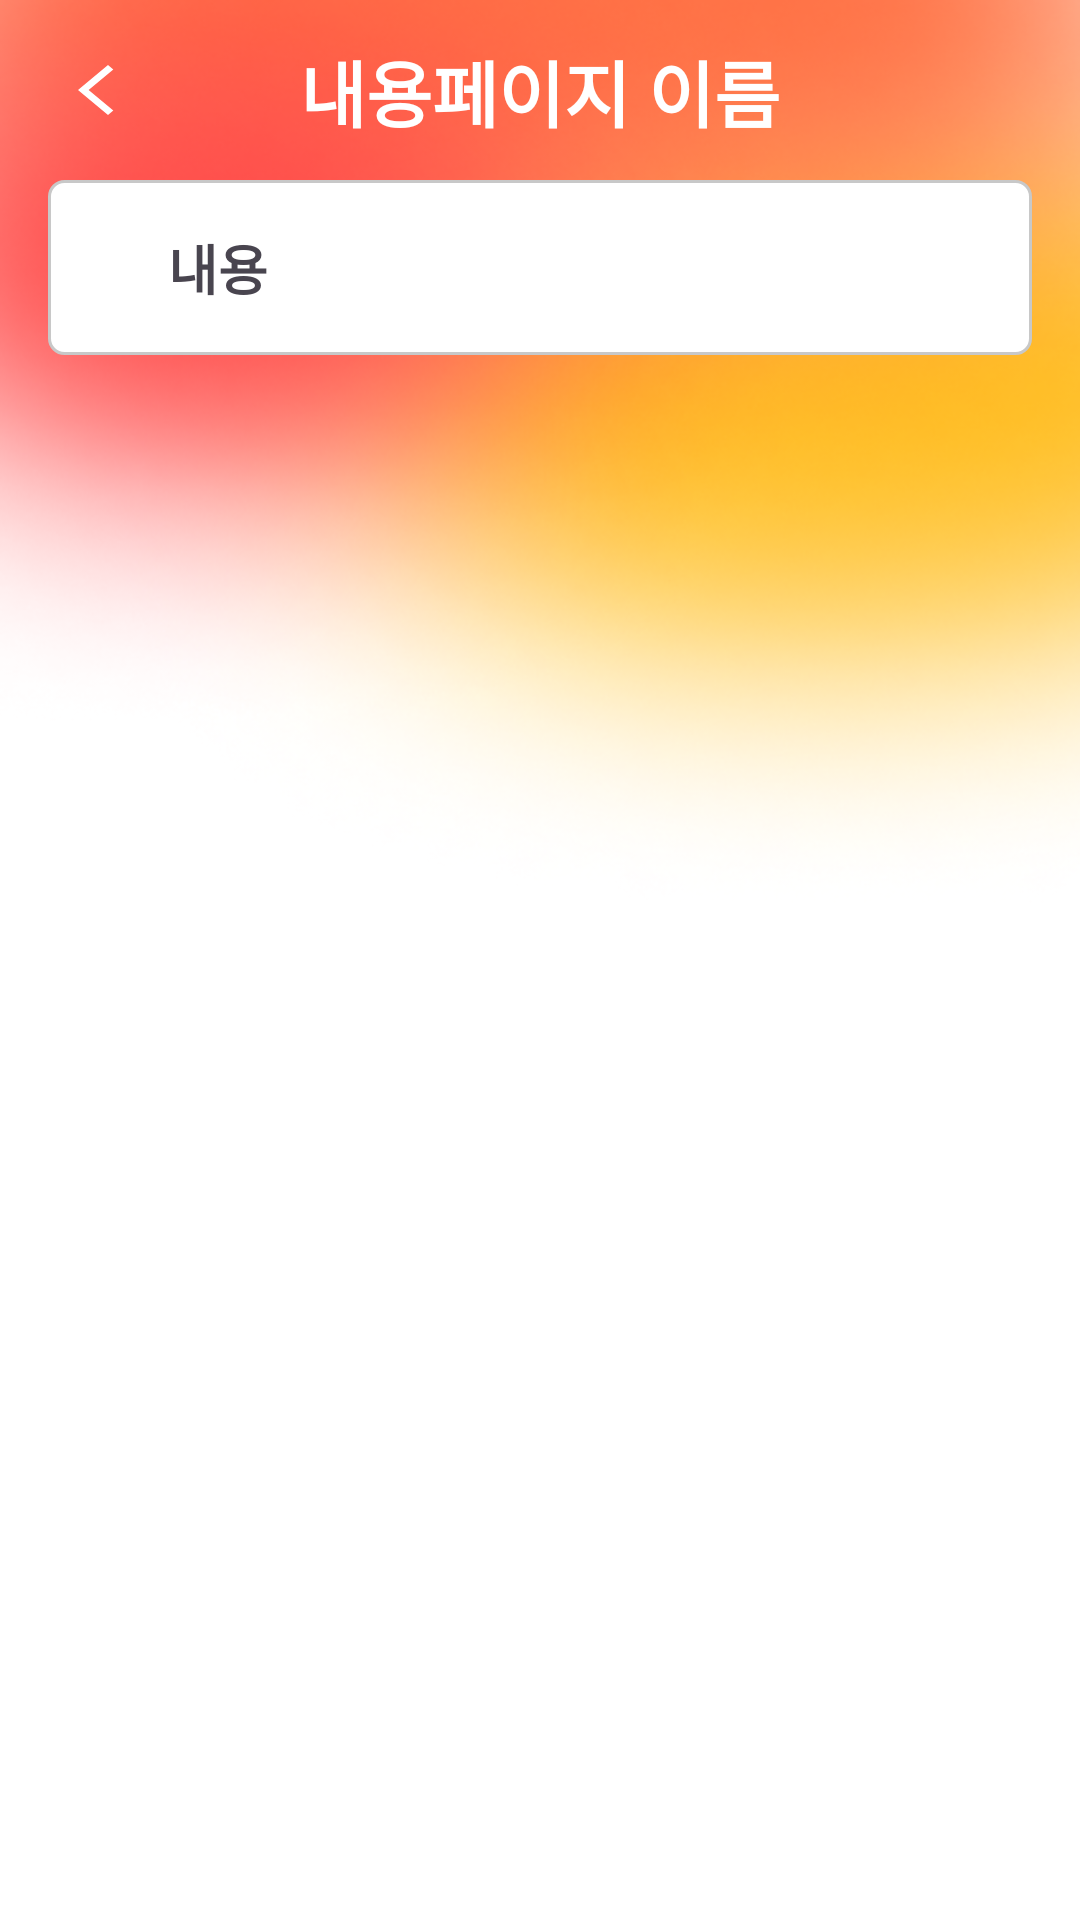

Locate icon controls on the screen. Image size 1080×1920, boxes as Rect(x1, y1, x2, y2).
back: Rect(78, 65, 113, 115)
